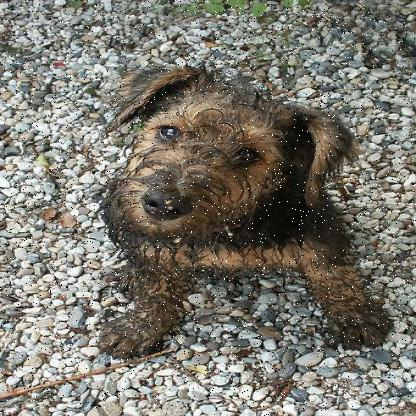dog: (105, 64, 383, 358)
